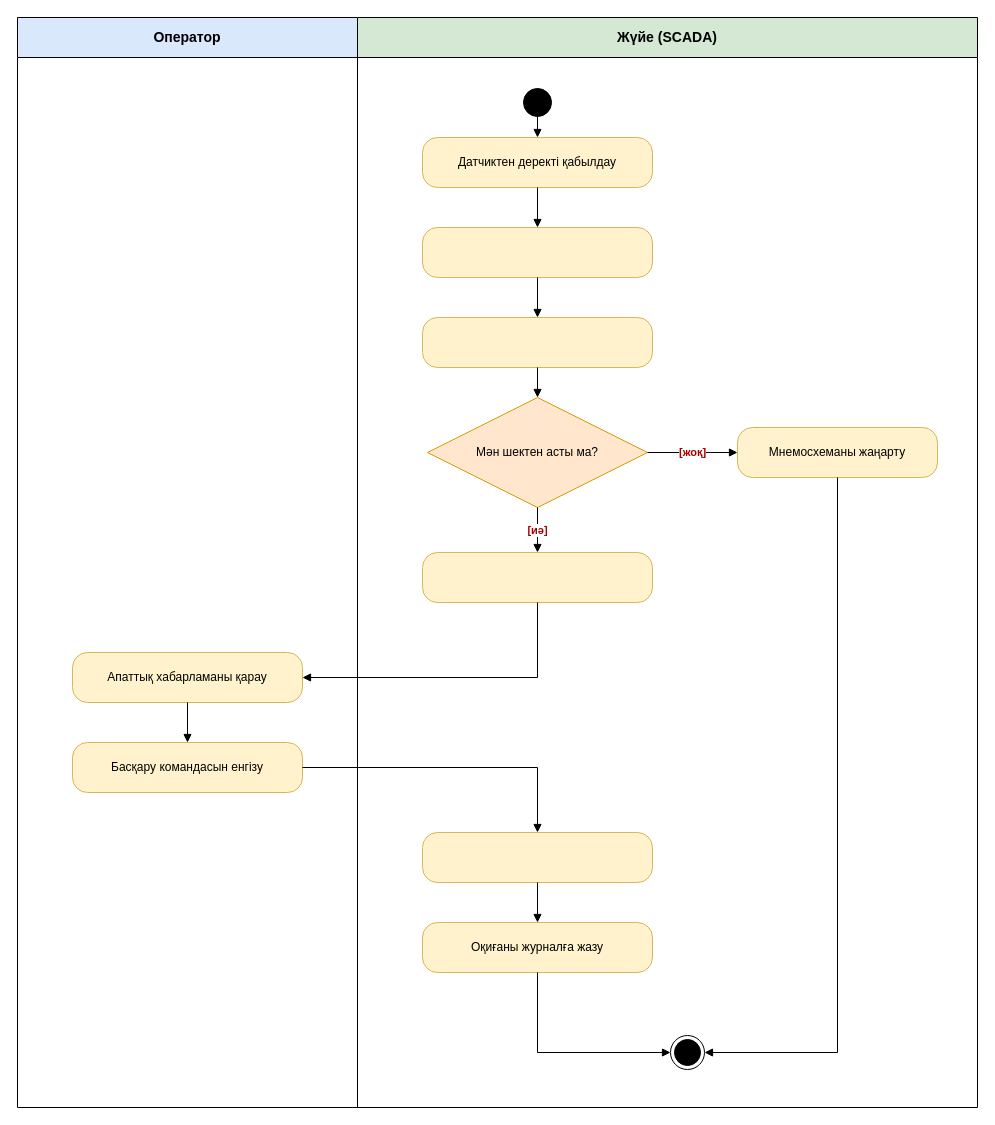
Image size: 995x1125. Some labels were removed from this diagram. The centre of each missing label's shape, as x and y in pixels:
"Апаттық сигнал беру" belongs at point (537, 577).
"Деректі базаға сақтау" belongs at point (537, 252).
"Команданы контроллерге жіберу" belongs at point (537, 857).
"Мәнді шекті мәнмен салыстыру" belongs at point (537, 342).
